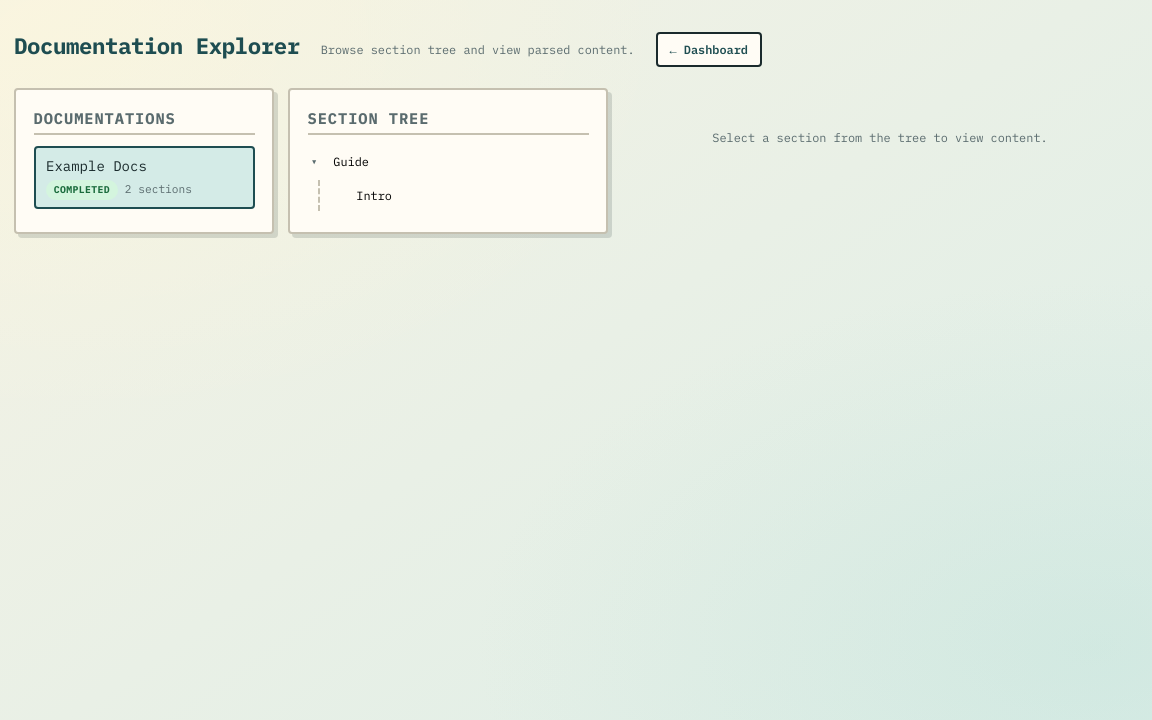
Test: Explorer › renders tree and loads selected section content
This screenshot has width=1152, height=720.
Click the button "Intro": (468, 196) [347,180,588,211]
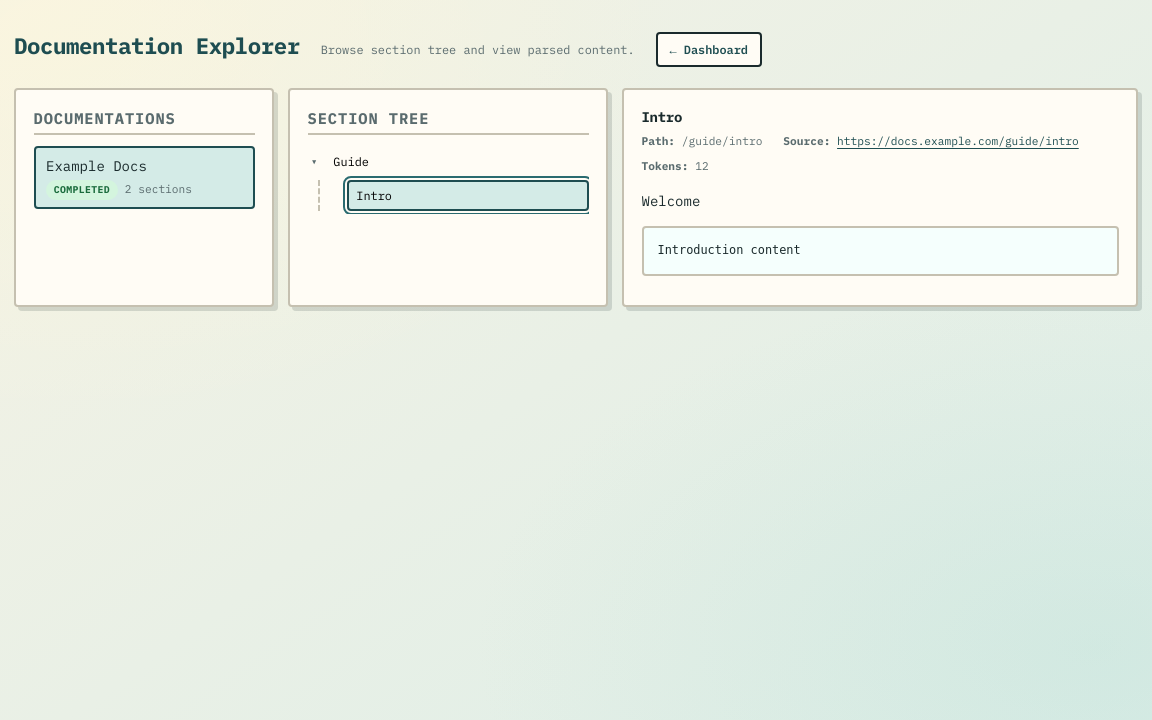
Expected: the text "Introduction content" is shown, [642,226,1118,276]
